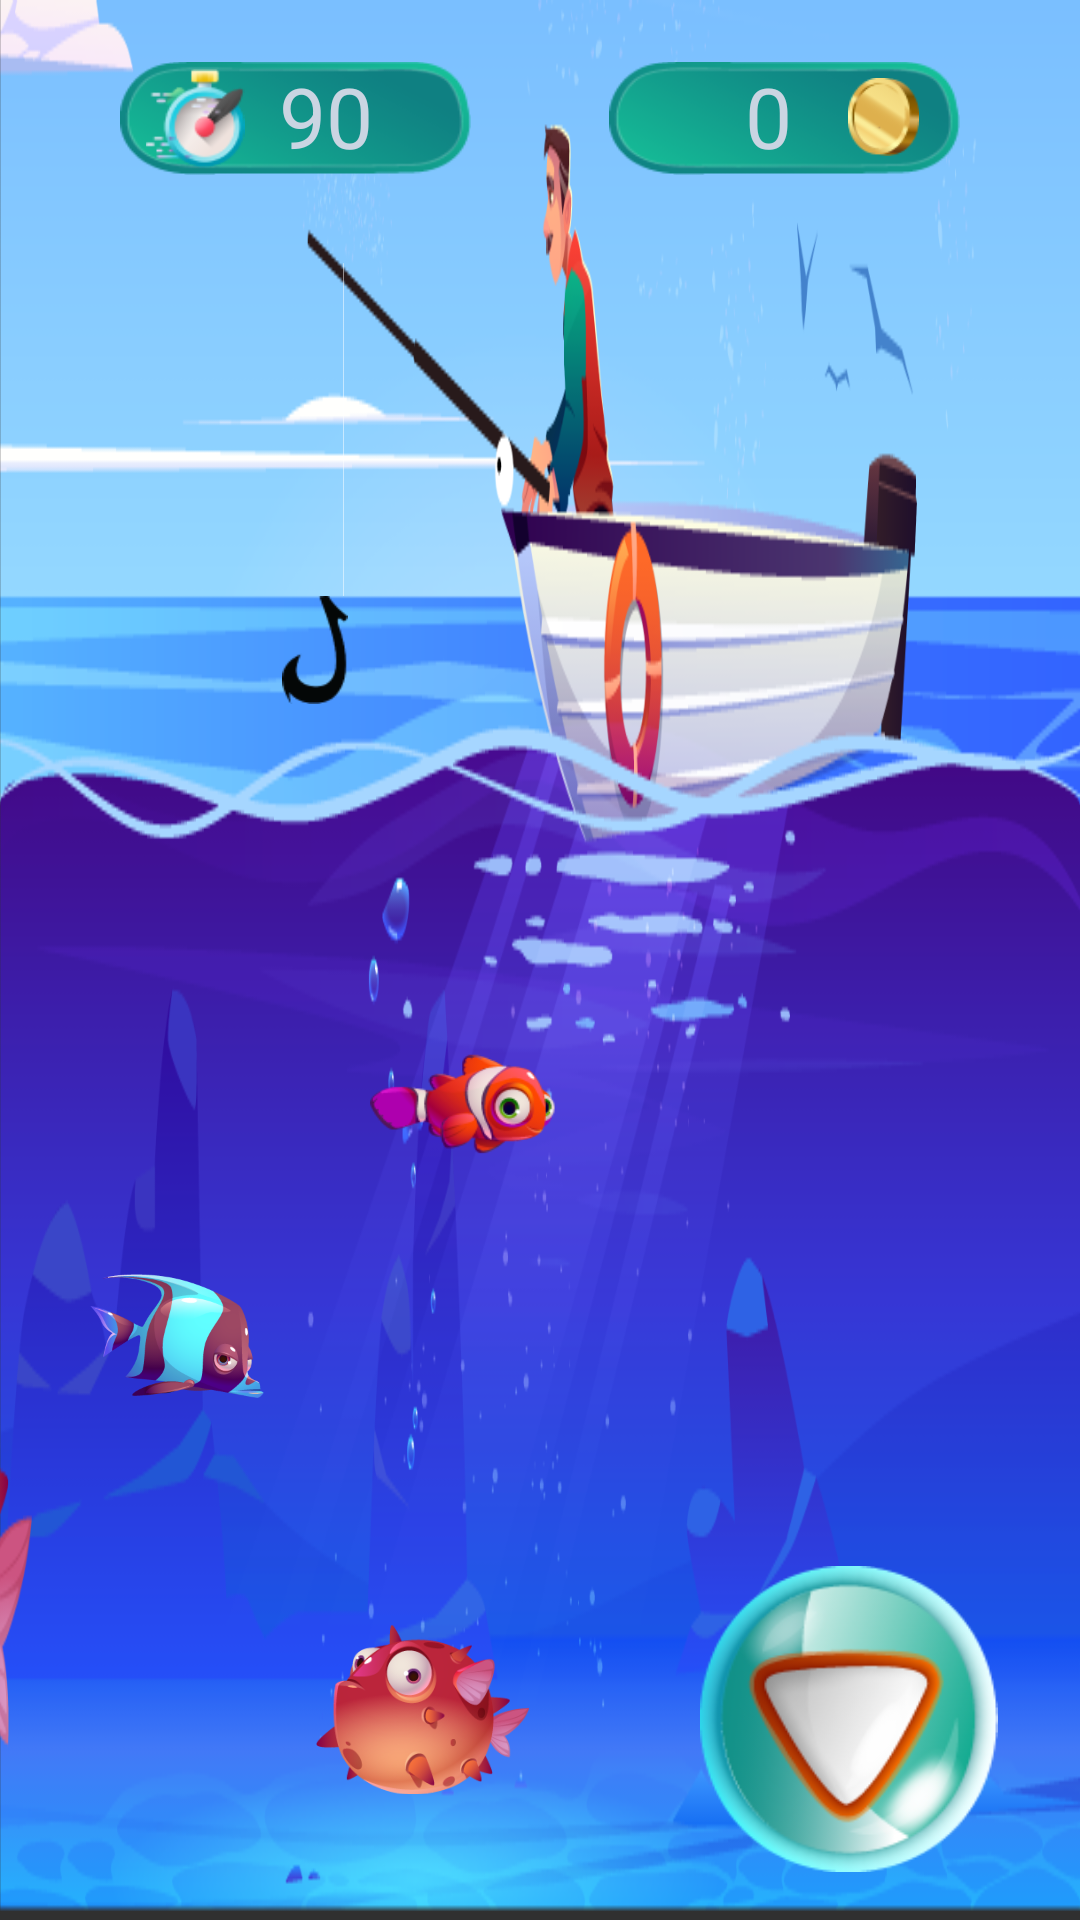

Point at icon controls on the screen. Image size 1080px×1920px, points as (x=x, y=y).
hook: (x=315, y=650)
